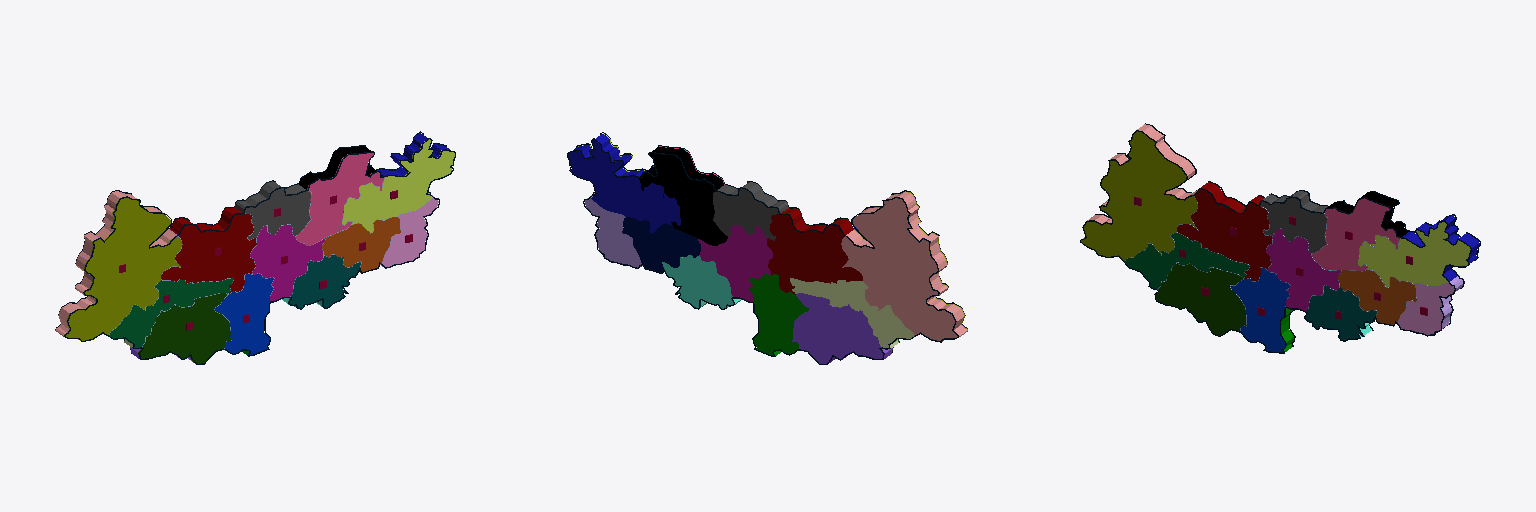
Rendered from deqing12.obj.
The picture shows the model from 3 angles: view 1: azimuth 30°, elevation 25°; view 2: azimuth 150°, elevation 25°; view 3: azimuth 330°, elevation 25°; orthographic projection.
Parts seen in each view (by area): view 1: [number redacted], [number redacted], [number redacted], [number redacted], [number redacted], [number redacted], [number redacted], [number redacted], [number redacted], [number redacted], top_border, [number redacted] (+7 smaller); view 2: [number redacted]_bottom, [number redacted]_bottom, [number redacted]_bottom, [number redacted]_bottom, [number redacted]_bottom, [number redacted]_bottom, [number redacted]_bottom, [number redacted]_bottom, [number redacted]_bottom, [number redacted]_bottom, [number redacted]_bottom, bottom_border (+1 smaller); view 3: [number redacted], [number redacted], [number redacted], [number redacted], [number redacted], [number redacted], [number redacted], [number redacted], [number redacted], [number redacted], top_border, [number redacted] (+6 smaller).
Part boxes in pixels (bbox=[...]): [number redacted]: bbox=[63, 198, 181, 340]; [number redacted]: bbox=[161, 214, 256, 293]; [number redacted]: bbox=[342, 139, 454, 232]; [number redacted]: bbox=[138, 293, 231, 363]; [number redacted]: bbox=[295, 153, 384, 245]; [number redacted]: bbox=[250, 225, 325, 300]; [number redacted]: bbox=[214, 273, 273, 355]; [number redacted]: bbox=[109, 277, 233, 347]; [number redacted]: bbox=[322, 217, 400, 272]; [number redacted]: bbox=[288, 255, 360, 308]; top_border: bbox=[64, 138, 455, 364]; [number redacted]: bbox=[243, 188, 310, 239]; [number redacted]_bottom: bbox=[841, 192, 966, 341]; [number redacted]_bottom: bbox=[767, 208, 862, 294]; [number redacted]_bottom: bbox=[568, 134, 680, 233]; [number redacted]_bottom: bbox=[792, 293, 892, 363]; [number redacted]_bottom: bbox=[639, 147, 727, 245]; [number redacted]_bottom: bbox=[698, 224, 772, 301]; [number redacted]_bottom: bbox=[749, 273, 808, 355]; [number redacted]_bottom: bbox=[790, 278, 913, 347]; [number redacted]_bottom: bbox=[713, 182, 787, 240]; [number redacted]_bottom: bbox=[622, 217, 700, 273]; [number redacted]_bottom: bbox=[662, 255, 741, 308]; bottom_border: bbox=[567, 138, 958, 364]; [number redacted]: bbox=[1081, 131, 1197, 260]; [number redacted]: bbox=[1177, 189, 1271, 280]; [number redacted]: bbox=[1358, 222, 1470, 286]; [number redacted]: bbox=[1156, 262, 1246, 335]; [number redacted]: bbox=[1312, 198, 1399, 270]; [number redacted]: bbox=[1266, 228, 1340, 310]; [number redacted]: bbox=[1230, 268, 1289, 351]; [number redacted]: bbox=[1125, 233, 1249, 288]; [number redacted]: bbox=[1338, 270, 1416, 324]; [number redacted]: bbox=[1305, 285, 1376, 339]; top_border: bbox=[1080, 130, 1471, 353]; [number redacted]: bbox=[1260, 198, 1326, 252].
Bounding box in the file's own units: 84.48 × 39.16 × 3.63.